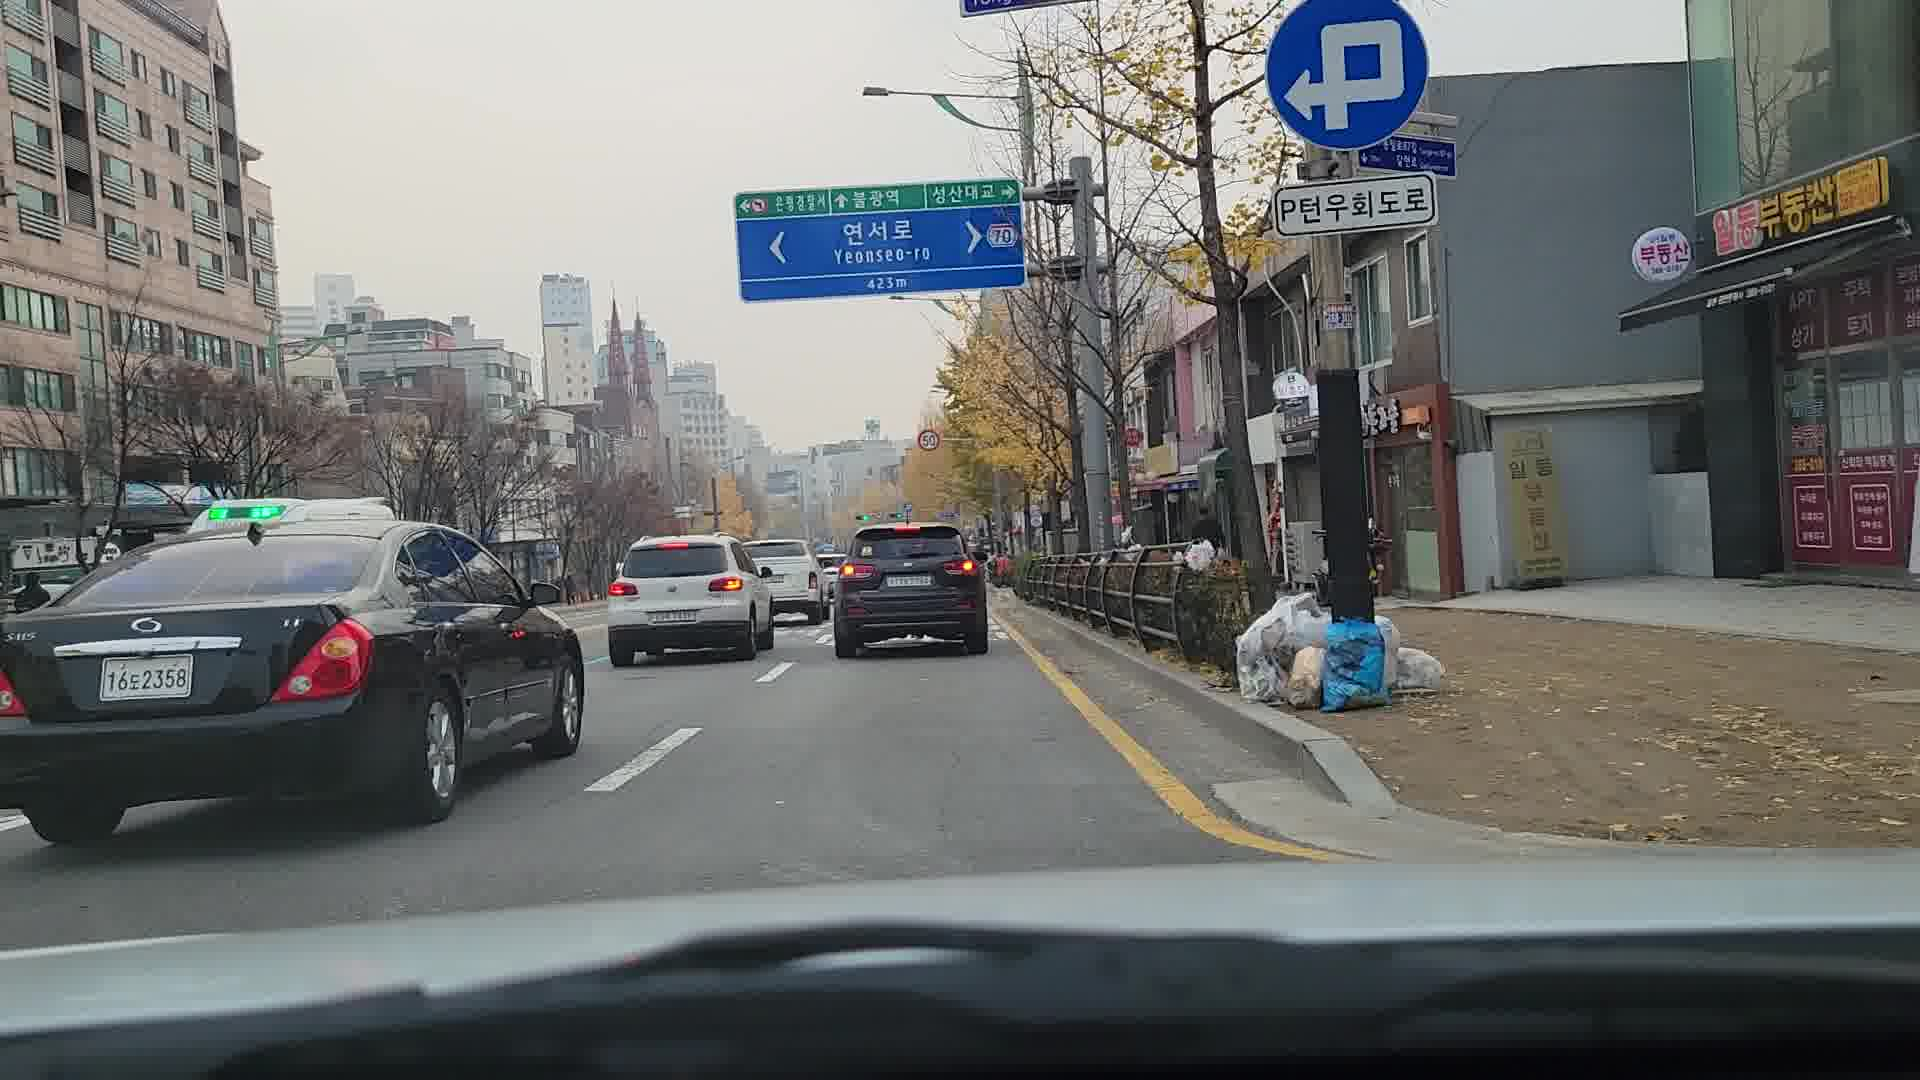car: (8, 500, 596, 849), (604, 531, 781, 665), (745, 539, 829, 625), (115, 480, 196, 543)
traffic light: (922, 427, 938, 448)
truck: (828, 522, 992, 659)
